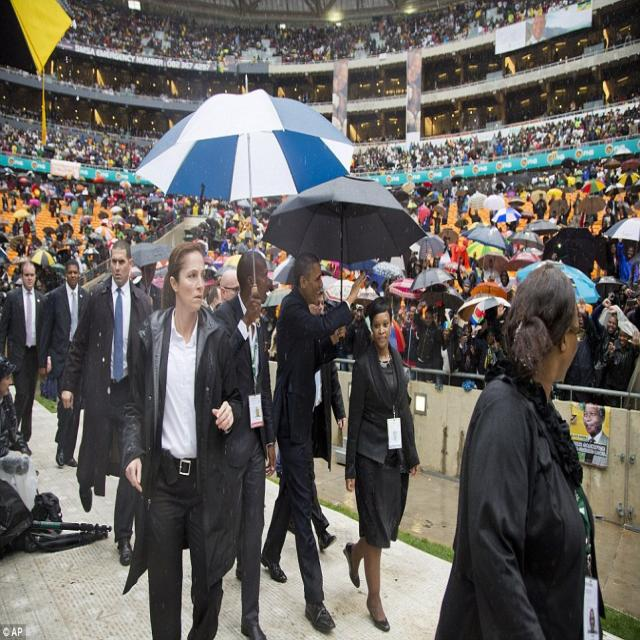body: (0, 0, 639, 355), (432, 259, 607, 640), (123, 239, 244, 639), (260, 247, 368, 633), (60, 238, 155, 567), (342, 294, 423, 632), (210, 248, 279, 640), (304, 290, 346, 554), (44, 258, 91, 468), (0, 259, 44, 459), (0, 358, 33, 477), (600, 325, 640, 408), (202, 250, 243, 320), (591, 298, 620, 392), (413, 301, 441, 384), (430, 312, 460, 387), (472, 324, 506, 389), (580, 401, 610, 464), (133, 256, 162, 312), (346, 305, 372, 360), (615, 237, 640, 287), (454, 322, 472, 370), (406, 305, 418, 327), (587, 609, 596, 634), (393, 429, 400, 444), (254, 408, 262, 420)
